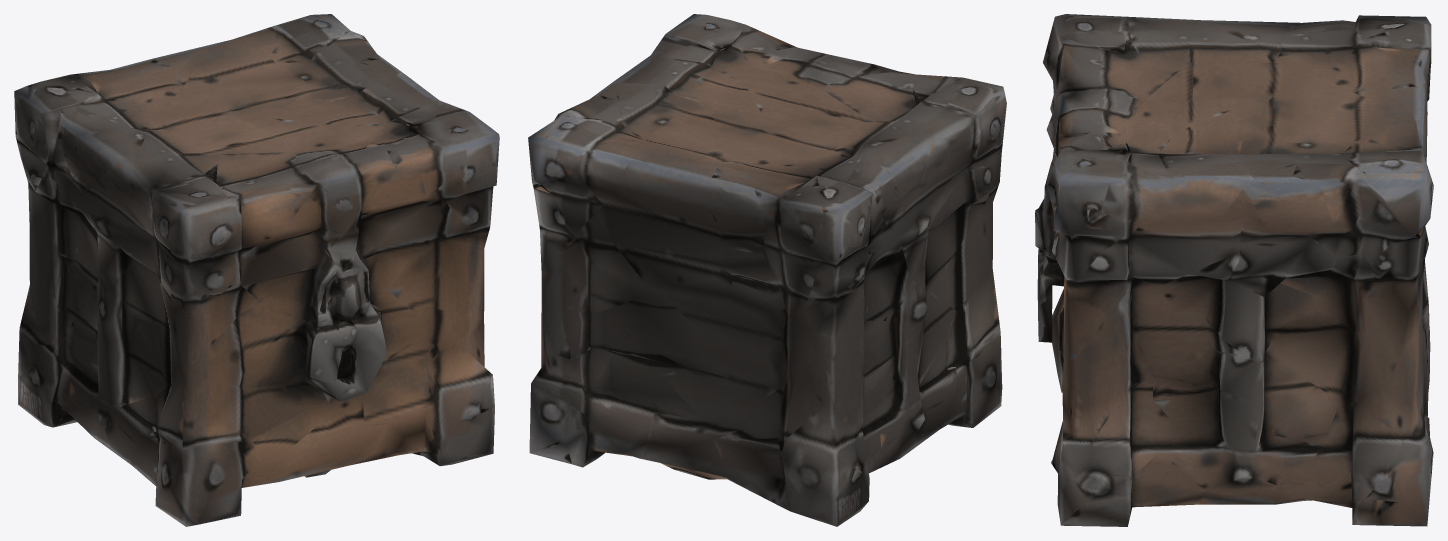
Rendered from supply_crate.glb.
3 views of the same model, side by side, from view 1: azimuth 30°, elevation 25°; view 2: azimuth 150°, elevation 25°; view 3: azimuth 270°, elevation 25° (orthographic). The views are drawn at different scales.
Bounding box in the file's own units: 1.99 × 1.93 × 1.94.
Materials: 1 (1 with a texture image).
